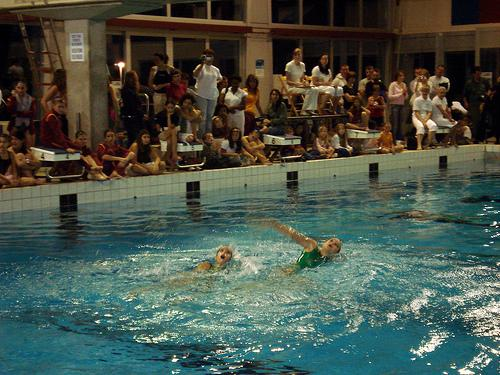swimmer: (271, 216, 338, 274), (194, 244, 233, 274)
